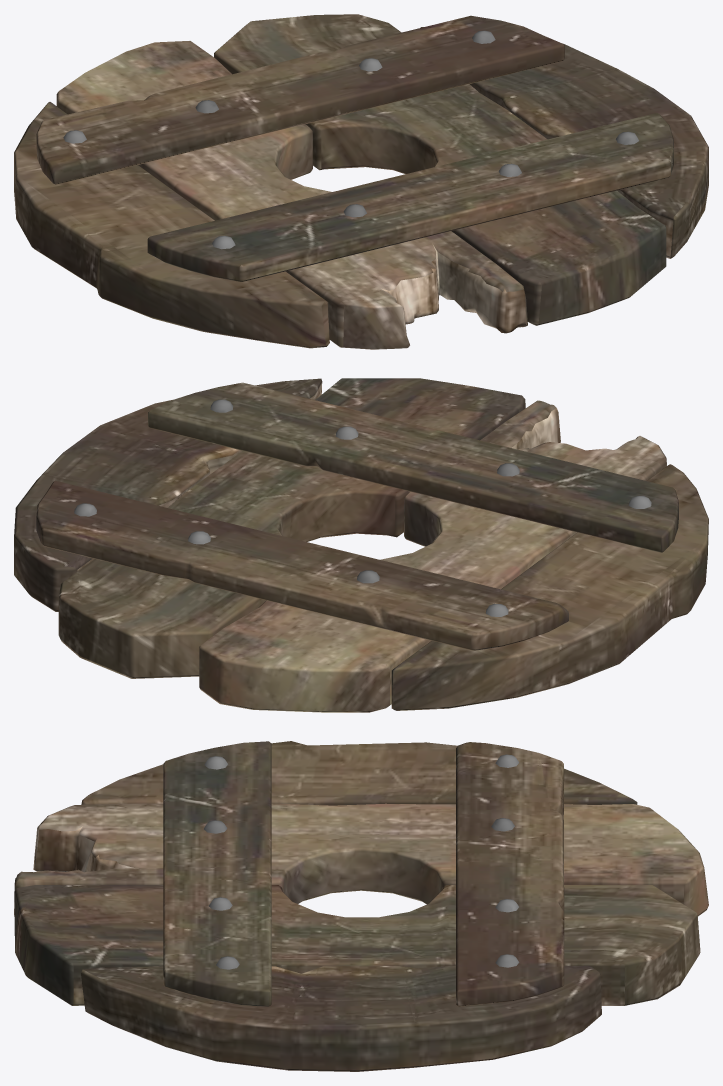
3 views of the same model, one above another, from view 1: azimuth 30°, elevation 25°; view 2: azimuth 150°, elevation 25°; view 3: azimuth 270°, elevation 25° (orthographic).
Parts seen in each view (by area): view 1: SM_Village_Cart_Wheel_v1_LOD0; view 2: SM_Village_Cart_Wheel_v1_LOD0; view 3: SM_Village_Cart_Wheel_v1_LOD0.
Part boxes in pixels (left/top/right/bottom): SM_Village_Cart_Wheel_v1_LOD0: left=14, top=14, right=708, bottom=349; SM_Village_Cart_Wheel_v1_LOD0: left=14, top=378, right=708, bottom=712; SM_Village_Cart_Wheel_v1_LOD0: left=14, top=741, right=708, bottom=1071.
Size of the model in its own units: 1.04 by 0.1173 by 1.06.
1 material, 1 textured.
